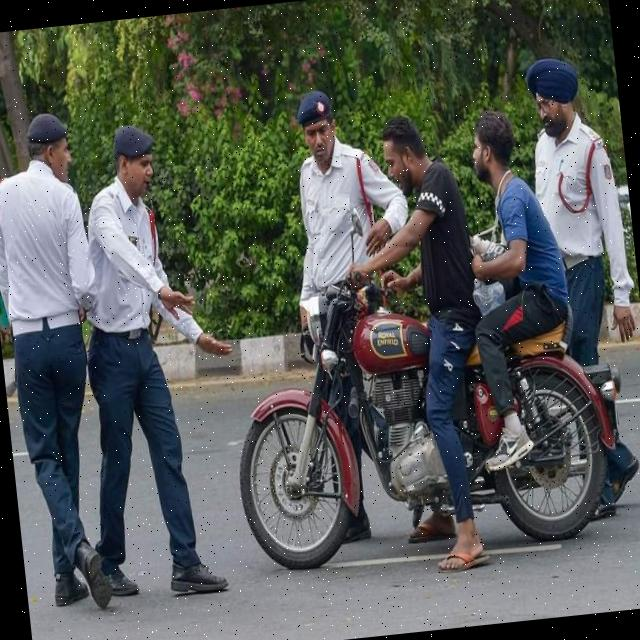No helmet: (368, 100, 438, 201)
